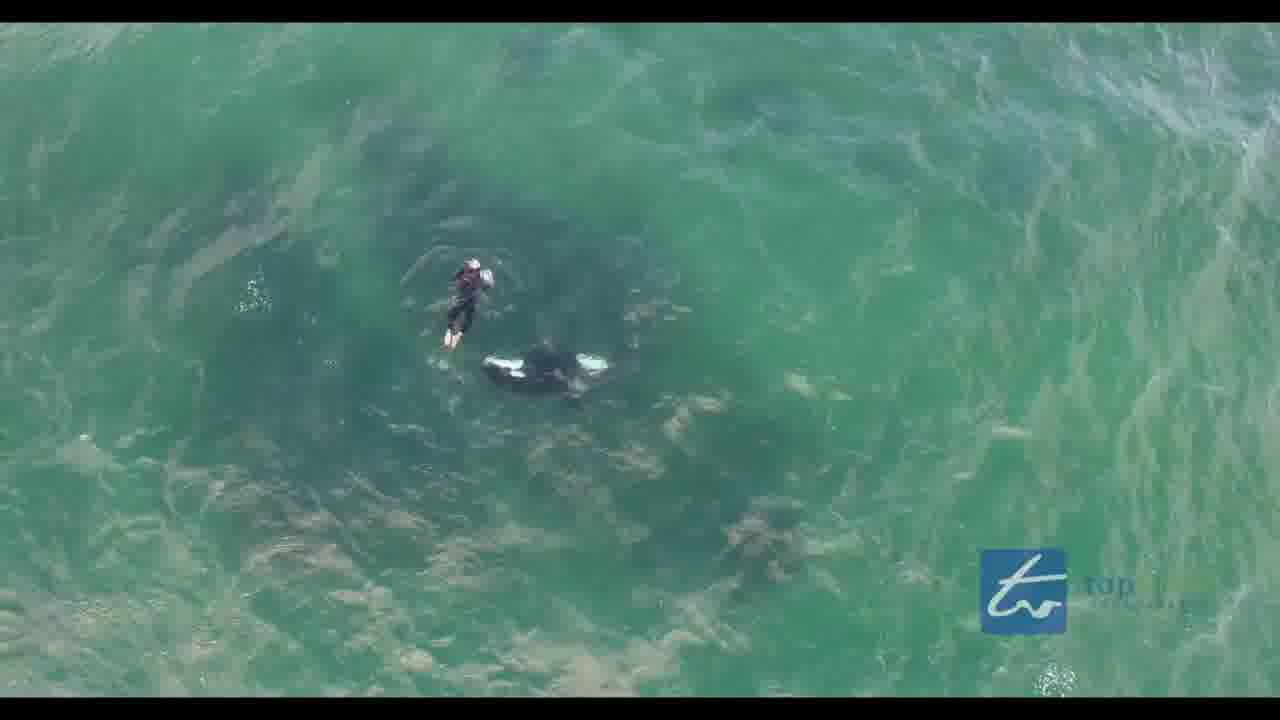human: (436, 249, 498, 349)
